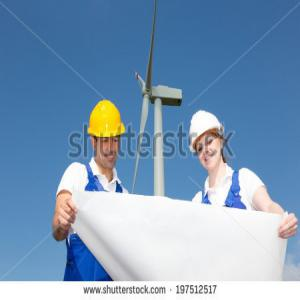white: (189, 111, 228, 175)
yellow: (88, 99, 125, 171)
